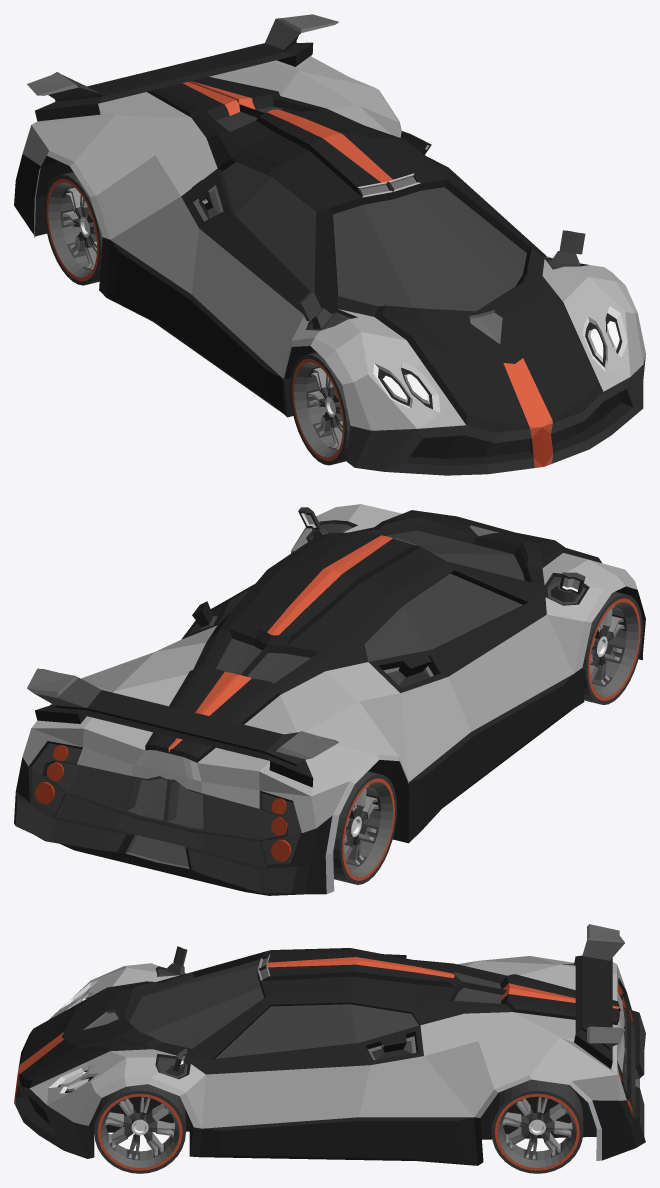
The model's file is paganizondacinque.fbx.
3 renders of one model, top to bottom at view 1: azimuth 30°, elevation 25°; view 2: azimuth 150°, elevation 25°; view 3: azimuth 270°, elevation 25°, orthographic. The views are drawn at different scales.
Visible parts, largest first — view 1: WhiteBody, FrontRight, BackRight; view 2: WhiteBody, BackRight, FrontRight; view 3: WhiteBody, BackLeft, FrontLeft.
Boxes of the visible parts, bbox=[...] form: WhiteBody: bbox=[14, 14, 645, 475]; FrontRight: bbox=[290, 352, 350, 465]; BackRight: bbox=[44, 172, 102, 285]; WhiteBody: bbox=[14, 504, 645, 895]; BackRight: bbox=[333, 771, 396, 884]; FrontRight: bbox=[582, 591, 642, 704]; WhiteBody: bbox=[14, 924, 645, 1165]; BackLeft: bbox=[491, 1079, 583, 1173]; FrontLeft: bbox=[94, 1084, 185, 1173].
Size of the model in its own units: 1.99 by 4.36 by 1.18.
